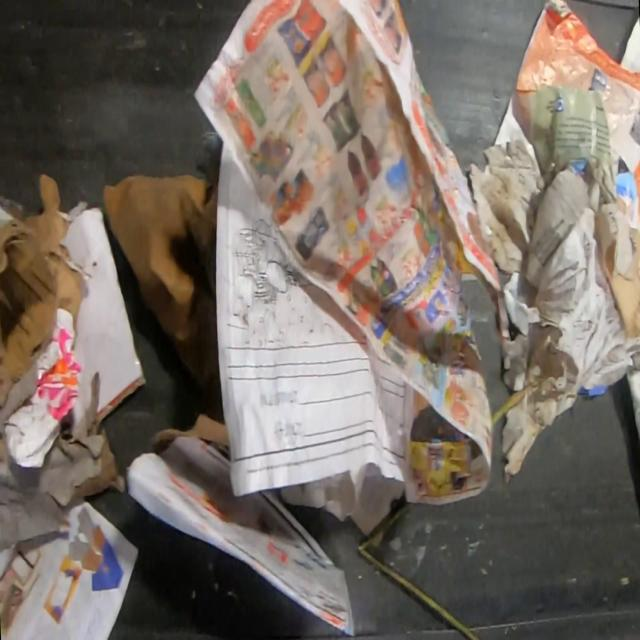cardboard: (101, 164, 222, 409), (0, 175, 87, 410), (595, 206, 640, 339)
